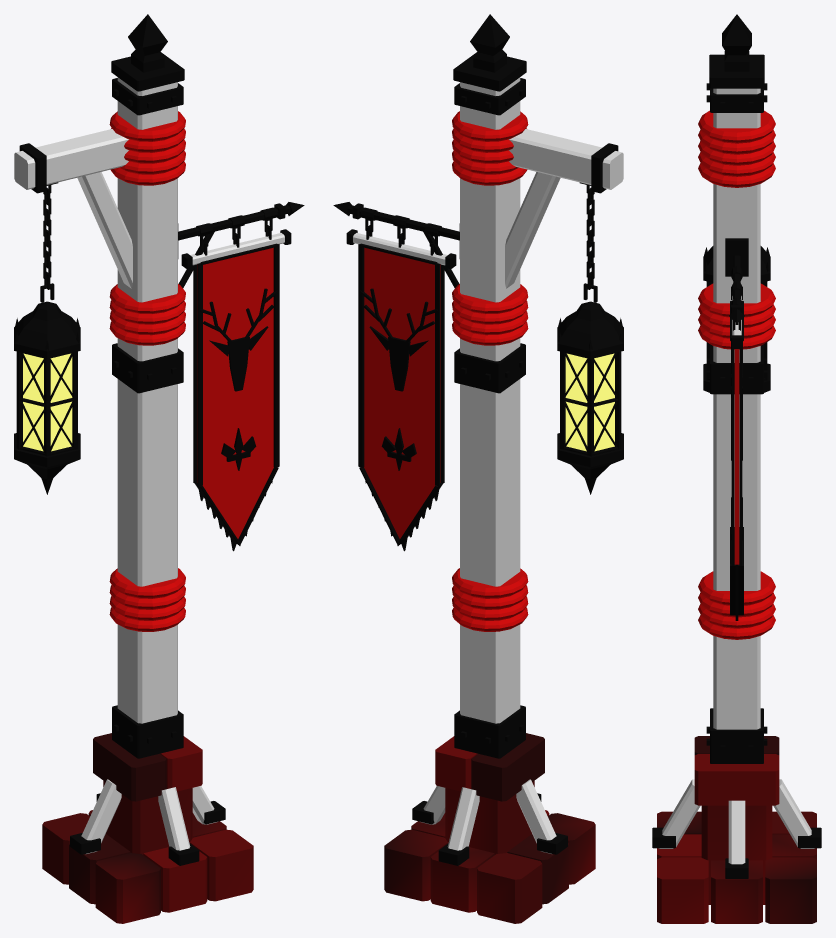
Rendered from SilverbrookStreetLamp3.fbx.
3 views of the same model, side by side, from view 1: azimuth 30°, elevation 25°; view 2: azimuth 150°, elevation 25°; view 3: azimuth 270°, elevation 25° (orthographic).
Parts seen in each view (by area): view 1: SM_SBStreetLamp3_Details, SM_SBStreetLamp3_Timber, SM_SBStreetLamp3_Masonry; view 2: SM_SBStreetLamp3_Details, SM_SBStreetLamp3_Timber, SM_SBStreetLamp3_Masonry; view 3: SM_SBStreetLamp3_Details, SM_SBStreetLamp3_Timber, SM_SBStreetLamp3_Masonry.
Boxes of the visible parts, bbox=[...] form: SM_SBStreetLamp3_Details: bbox=[14, 14, 304, 865]; SM_SBStreetLamp3_Timber: bbox=[14, 77, 284, 853]; SM_SBStreetLamp3_Masonry: bbox=[42, 733, 253, 923]; SM_SBStreetLamp3_Details: bbox=[333, 14, 623, 865]; SM_SBStreetLamp3_Timber: bbox=[353, 77, 623, 853]; SM_SBStreetLamp3_Masonry: bbox=[384, 733, 595, 923]; SM_SBStreetLamp3_Details: bbox=[652, 14, 821, 878]; SM_SBStreetLamp3_Timber: bbox=[659, 88, 814, 864]; SM_SBStreetLamp3_Masonry: bbox=[657, 736, 816, 923].
Size of the model in its own units: 144 by 411 by 72.
